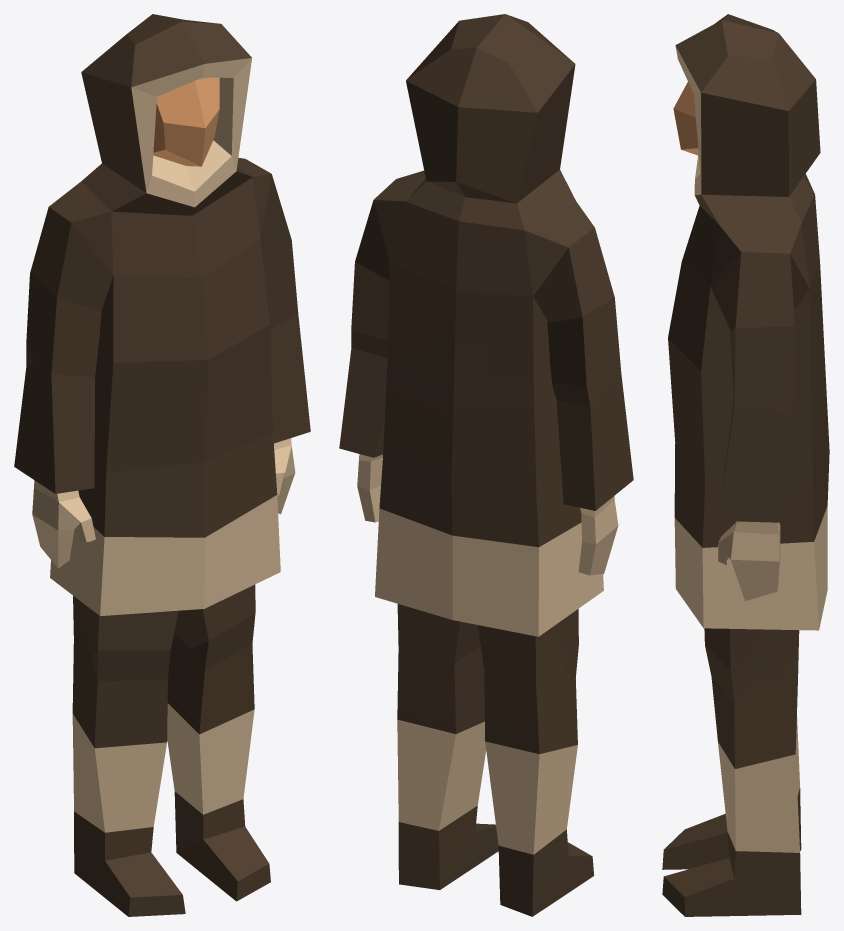
Rendered from people_man-eskimo.fbx.
The picture shows the model from 3 angles, left to right: view 1: azimuth 30°, elevation 25°; view 2: azimuth 150°, elevation 25°; view 3: azimuth 270°, elevation 25°; orthographic projection.
Visible parts, largest first — view 1: people_man_eskimo; view 2: people_man_eskimo; view 3: people_man_eskimo.
Boxes of the visible parts, <box> form: people_man_eskimo: <box>14,14,310,916</box>; people_man_eskimo: <box>339,14,633,916</box>; people_man_eskimo: <box>662,14,829,916</box>.
Size of the model in its own units: 62.53 by 200 by 35.16.
